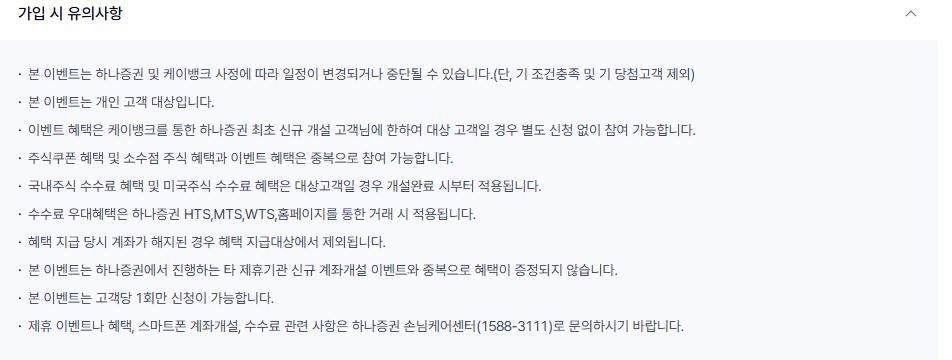button: (896, 3, 921, 19)
